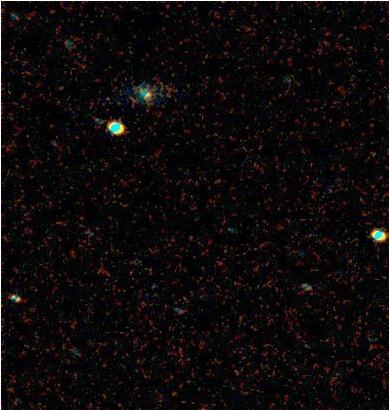star: (92, 77, 122, 107)
